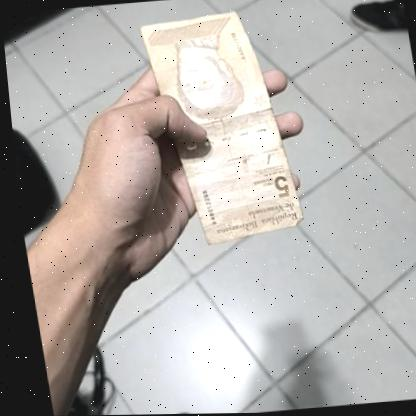five-front-vef: (138, 10, 303, 247)
